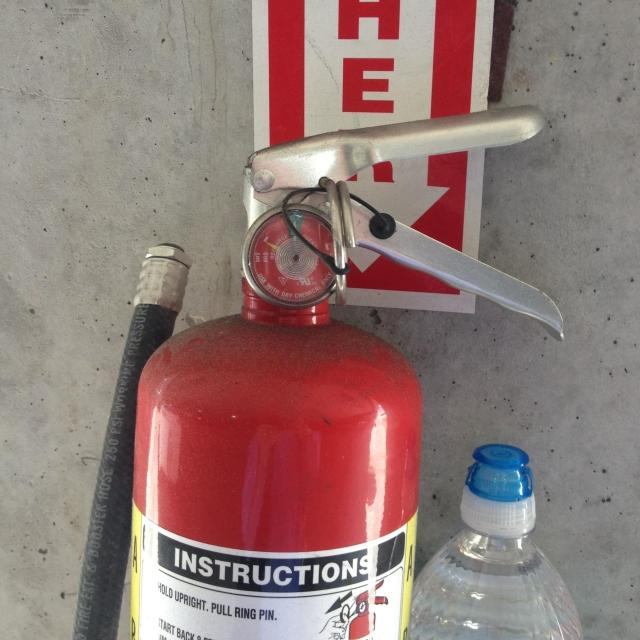fire_extinguisher: (106, 97, 570, 640)
